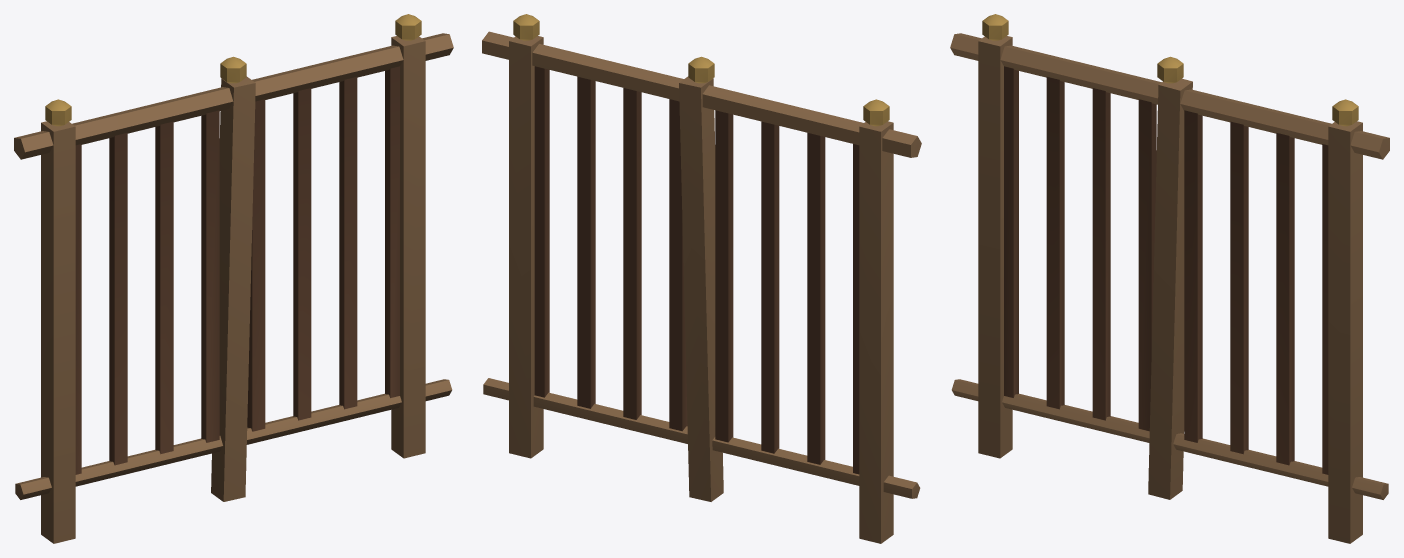
Rendered from qb_stairwell_rail_wood.glb.
The picture shows the model from 3 angles, left to right: view 1: azimuth 30°, elevation 25°; view 2: azimuth 150°, elevation 25°; view 3: azimuth 330°, elevation 25°; orthographic projection.
Parts seen in each view (by area): view 1: qb_stairwell_rail_wood; view 2: qb_stairwell_rail_wood; view 3: qb_stairwell_rail_wood.
Part boxes in pixels (<box>): qb_stairwell_rail_wood: <box>14,14,453,543</box>; qb_stairwell_rail_wood: <box>482,14,921,543</box>; qb_stairwell_rail_wood: <box>950,14,1389,543</box>.
Size of the model in its own units: 0.98 by 0.955 by 0.052.
